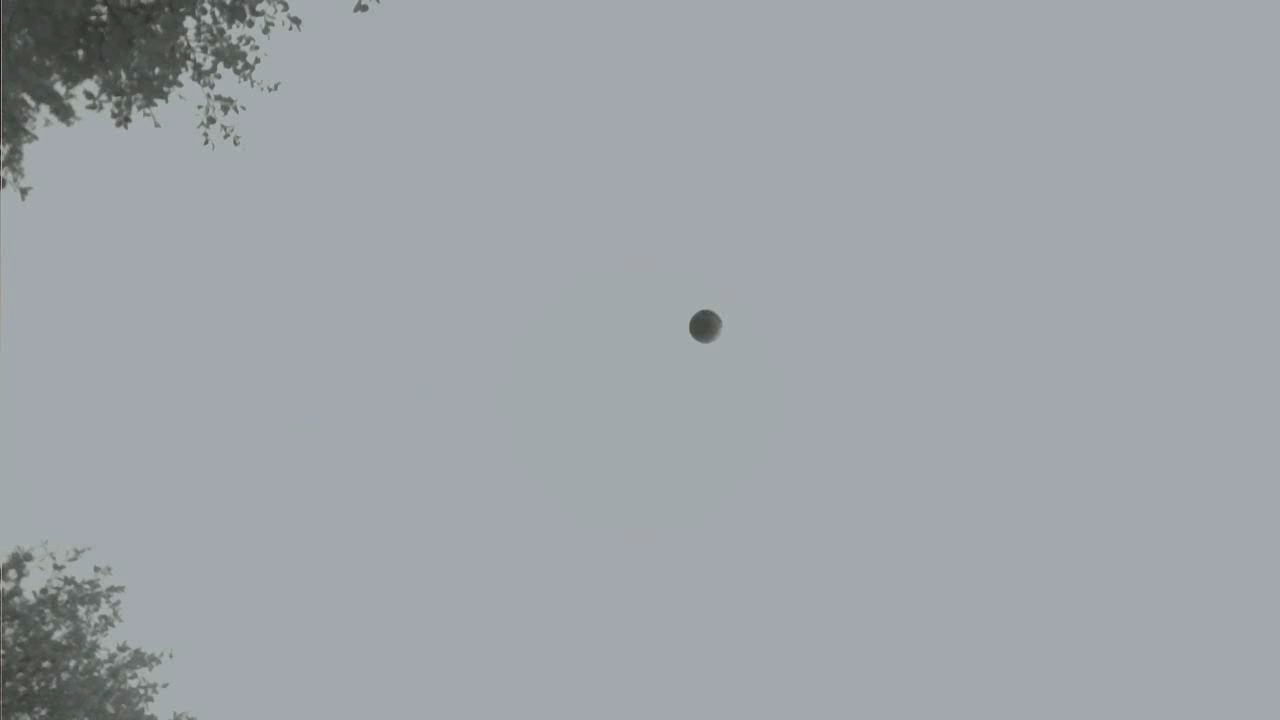Football-Spotter: (689, 309, 722, 343)
